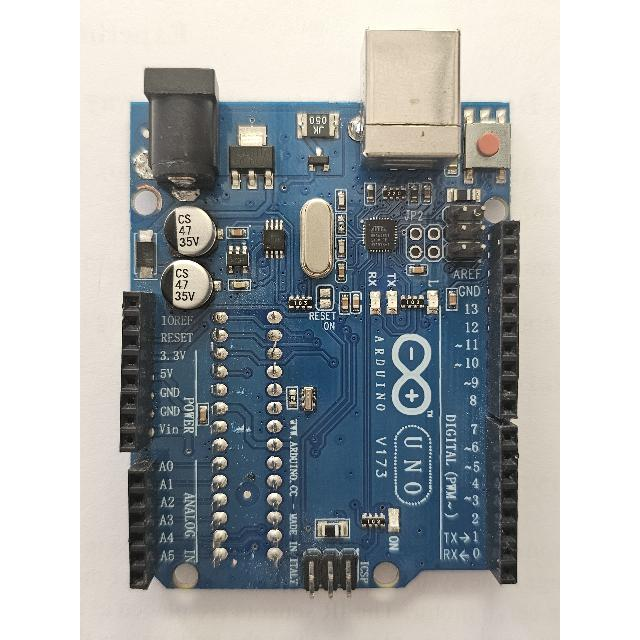missing_atmega: (202, 303, 294, 578)
